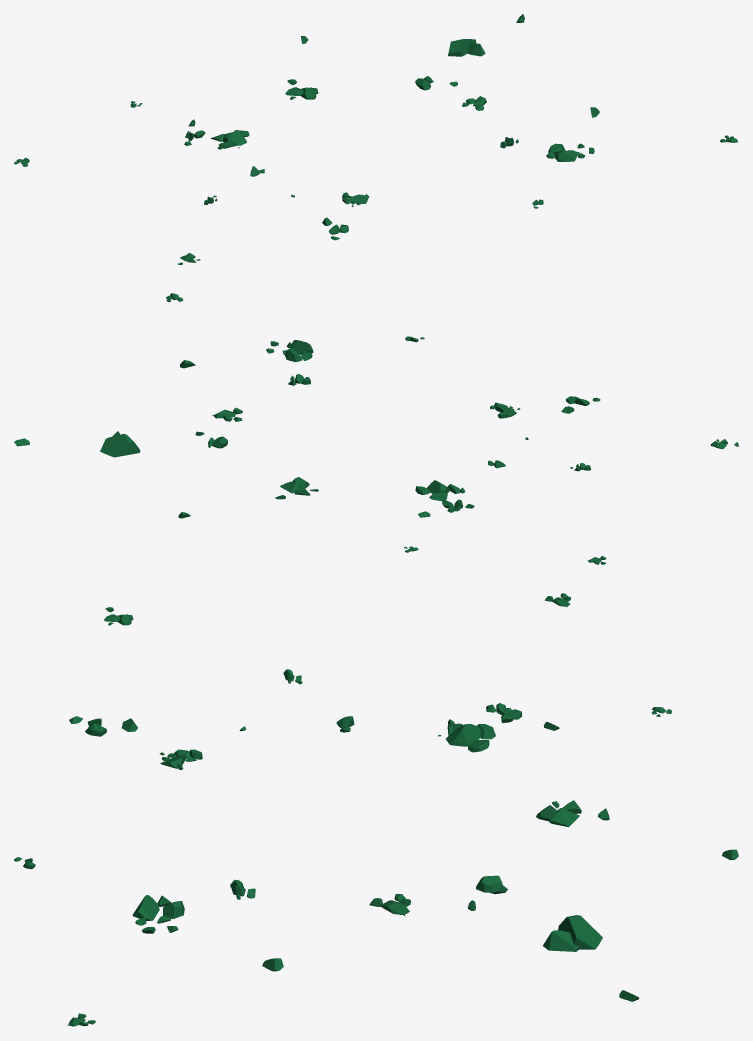
File: pRocks.glb
3 renders of one model, top to bottom at view 1: azimuth 30°, elevation 25°; view 2: azimuth 150°, elevation 25°; view 3: azimuth 270°, elevation 25°, orthographic. The views are drawn at different scales.
Parts seen in each view (by area): view 1: rocks; view 2: rocks; view 3: rocks.
Boxes of the visible parts, x1,y1,x2,y2 form: rocks: [14, 14, 738, 264]; rocks: [14, 293, 738, 564]; rocks: [14, 593, 738, 1026].
Size of the model in its own units: 18.31 by 0.4537 by 12.98.
